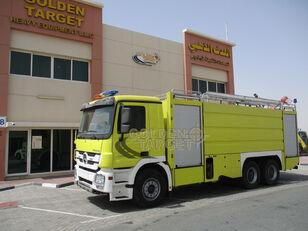firetruck_off: (75, 88, 299, 206)
